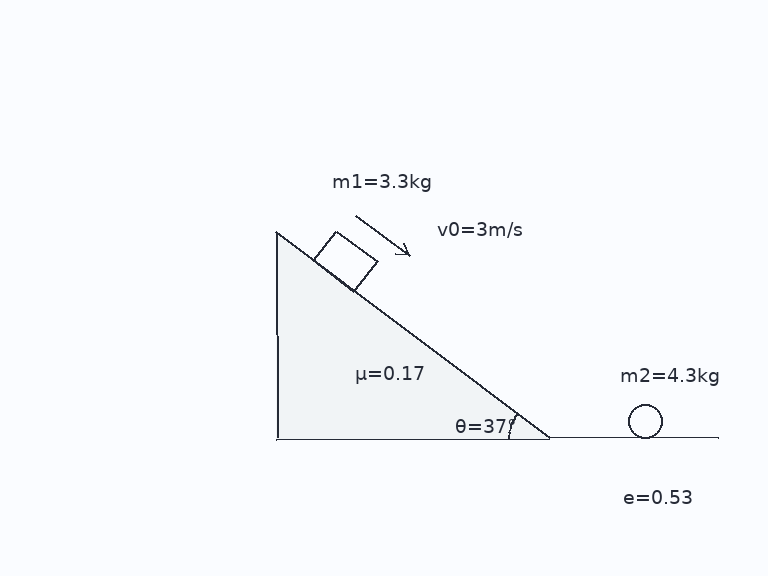ball: (626, 402, 664, 440)
block: (311, 228, 379, 293)
ramp: (275, 231, 551, 440)
